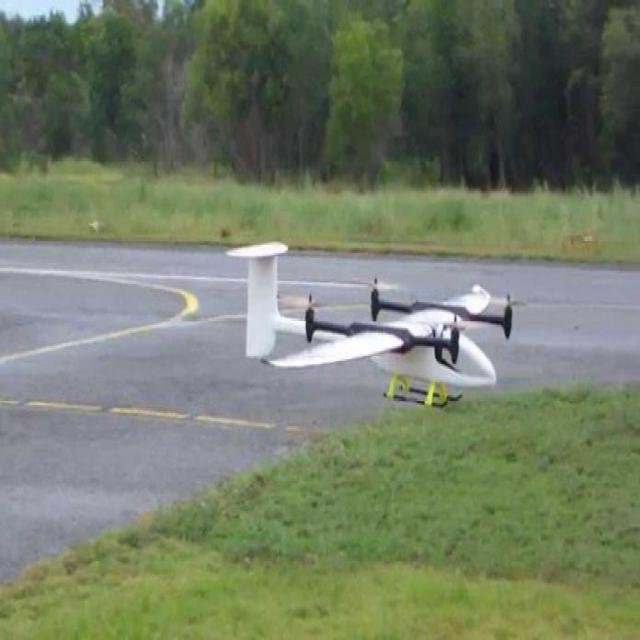UAV: (252, 224, 524, 410)
